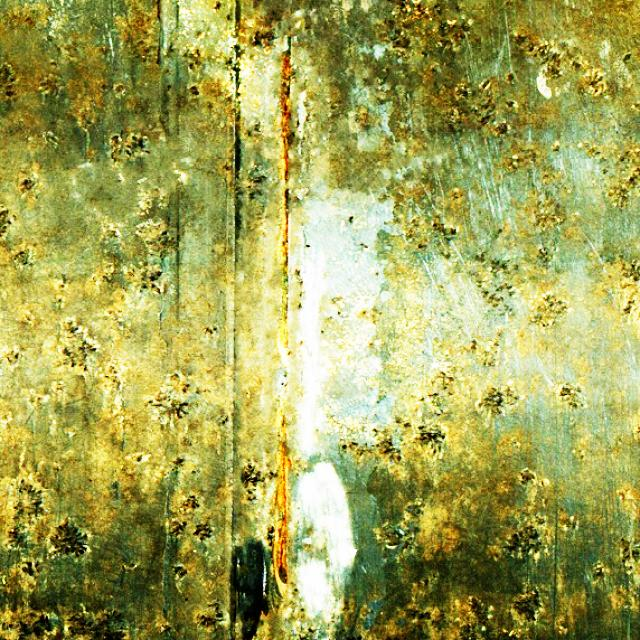Corrosion: (271, 440, 292, 597), (278, 50, 292, 183), (275, 294, 291, 367), (279, 188, 291, 277), (276, 406, 286, 438)
